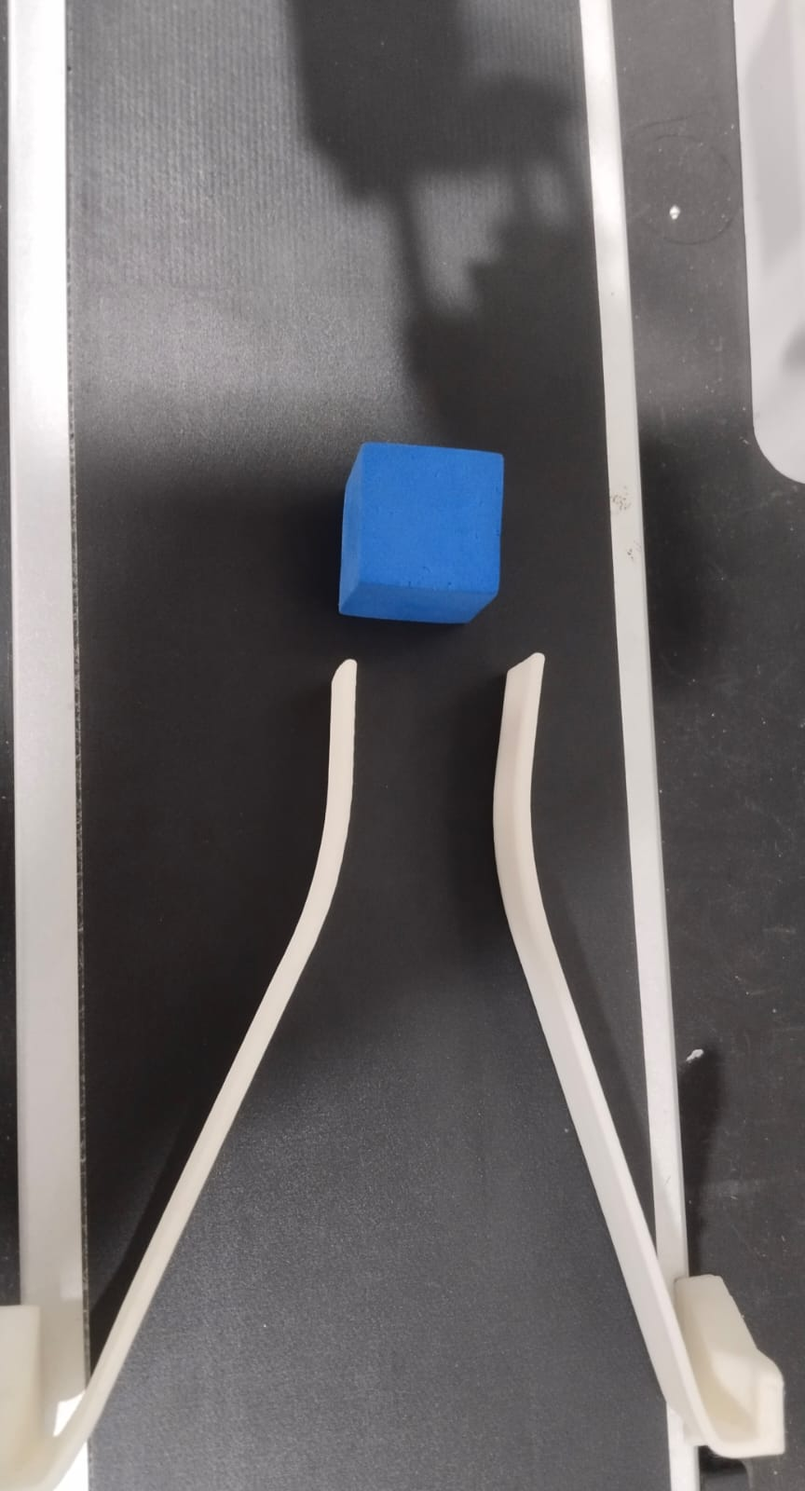blue: (335, 438, 508, 630)
